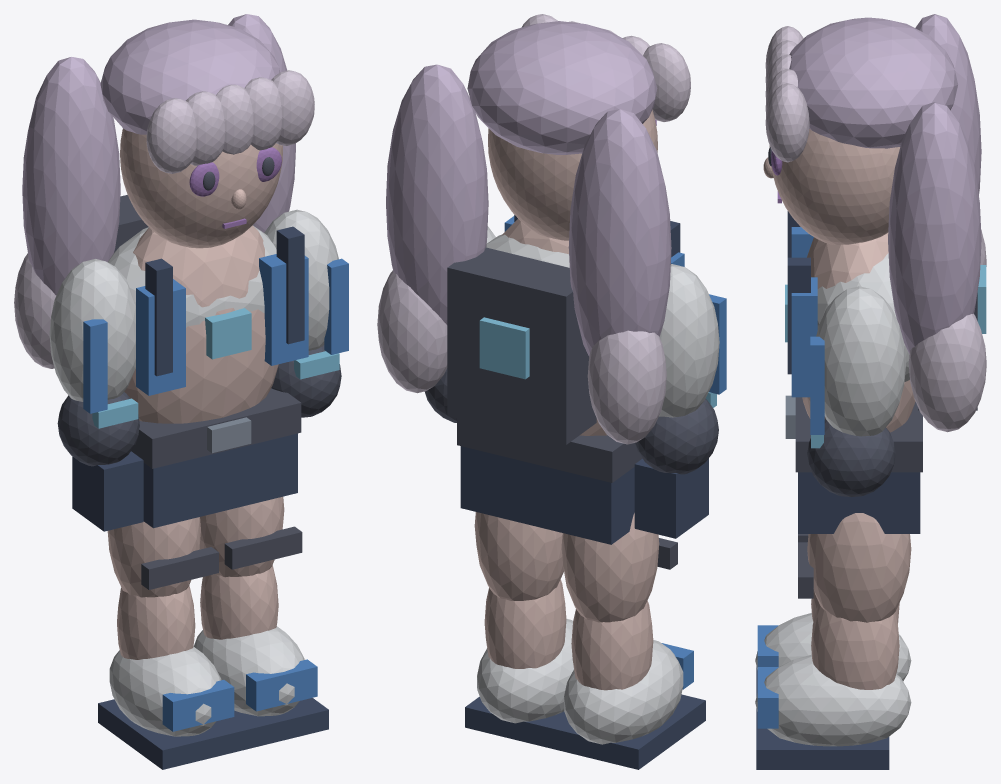
File: lila-operator.glb
The picture shows the model from 3 angles, left to right: view 1: azimuth 30°, elevation 25°; view 2: azimuth 150°, elevation 25°; view 3: azimuth 270°, elevation 25°; orthographic projection. The views are drawn at different scales.
Visible parts, largest first — view 1: left_long_hair, torso, hair_crown, head, shorts, left_sleeve, left_boot, belt, right_boot, left_shin, right_shin, left_thigh (+31 smaller); view 2: backpack, left_long_hair, right_long_hair, hair_crown, shorts, left_hair_tip, left_thigh, left_boot, left_sleeve, head, right_thigh, right_hair_tip (+15 smaller); view 3: right_long_hair, hair_crown, right_sleeve, head, right_boot, right_thigh, right_hair_tip, right_shin, shorts, right_glove, right_sole, torso (+17 smaller).
Part boxes in pixels (x1,y1,x2,y2): left_long_hair: [22, 57, 120, 295]; torso: [124, 225, 278, 423]; hair_crown: [100, 19, 280, 134]; head: [120, 128, 282, 248]; shorts: [143, 433, 297, 528]; left_sleeve: [49, 259, 135, 401]; left_boot: [109, 646, 221, 736]; belt: [131, 388, 301, 468]; right_boot: [193, 626, 304, 716]; left_shin: [117, 585, 195, 659]; right_shin: [200, 565, 278, 639]; left_thigh: [107, 517, 200, 597]; backpack: [447, 247, 596, 444]; left_long_hair: [568, 109, 671, 356]; right_long_hair: [386, 64, 488, 324]; hair_crown: [467, 21, 657, 154]; shorts: [460, 446, 634, 544]; left_hair_tip: [587, 330, 666, 444]; left_thigh: [561, 513, 659, 622]; left_boot: [564, 640, 683, 744]; left_sleeve: [659, 264, 719, 417]; head: [488, 109, 657, 240]; right_thigh: [474, 512, 563, 600]; right_hair_tip: [377, 270, 447, 393]; right_long_hair: [888, 102, 981, 354]; hair_crown: [789, 17, 957, 148]; right_sleeve: [816, 286, 905, 436]; head: [769, 129, 900, 244]; right_boot: [755, 654, 911, 746]; right_thigh: [807, 513, 911, 622]; right_hair_tip: [908, 313, 986, 432]; right_shin: [811, 602, 899, 689]; shorts: [798, 472, 920, 533]; right_glove: [807, 419, 895, 497]; right_sole: [756, 708, 889, 769]; torso: [802, 232, 915, 432].
Bounding box in the file's own units: 1.28 × 2.96 × 0.89.
